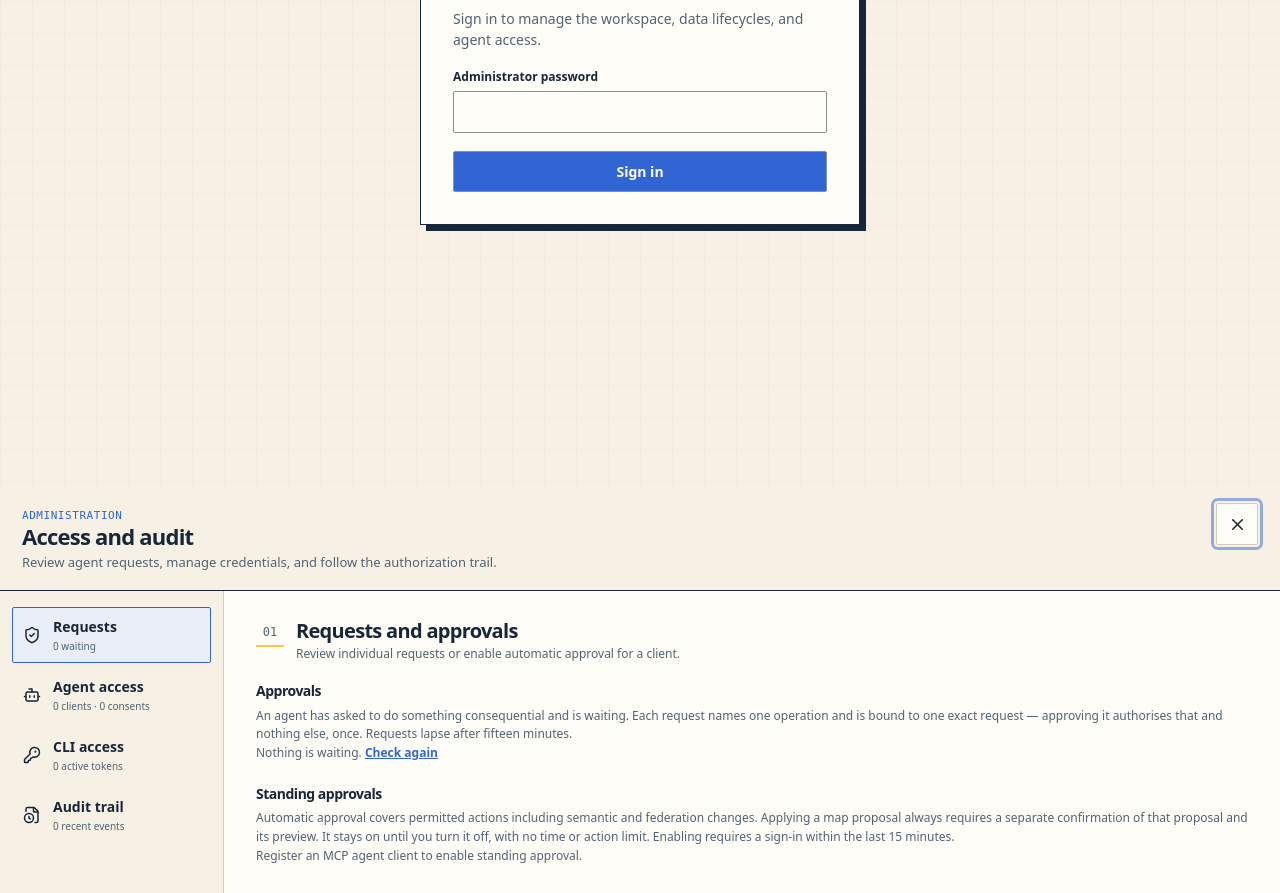
Test: Scoped token administration › offers semantic privilege tiers and provisions the selected scopes
(page scrolled)
Click the button "CLI access 0 active tokens" at (112,755), box [12,727,211,783]
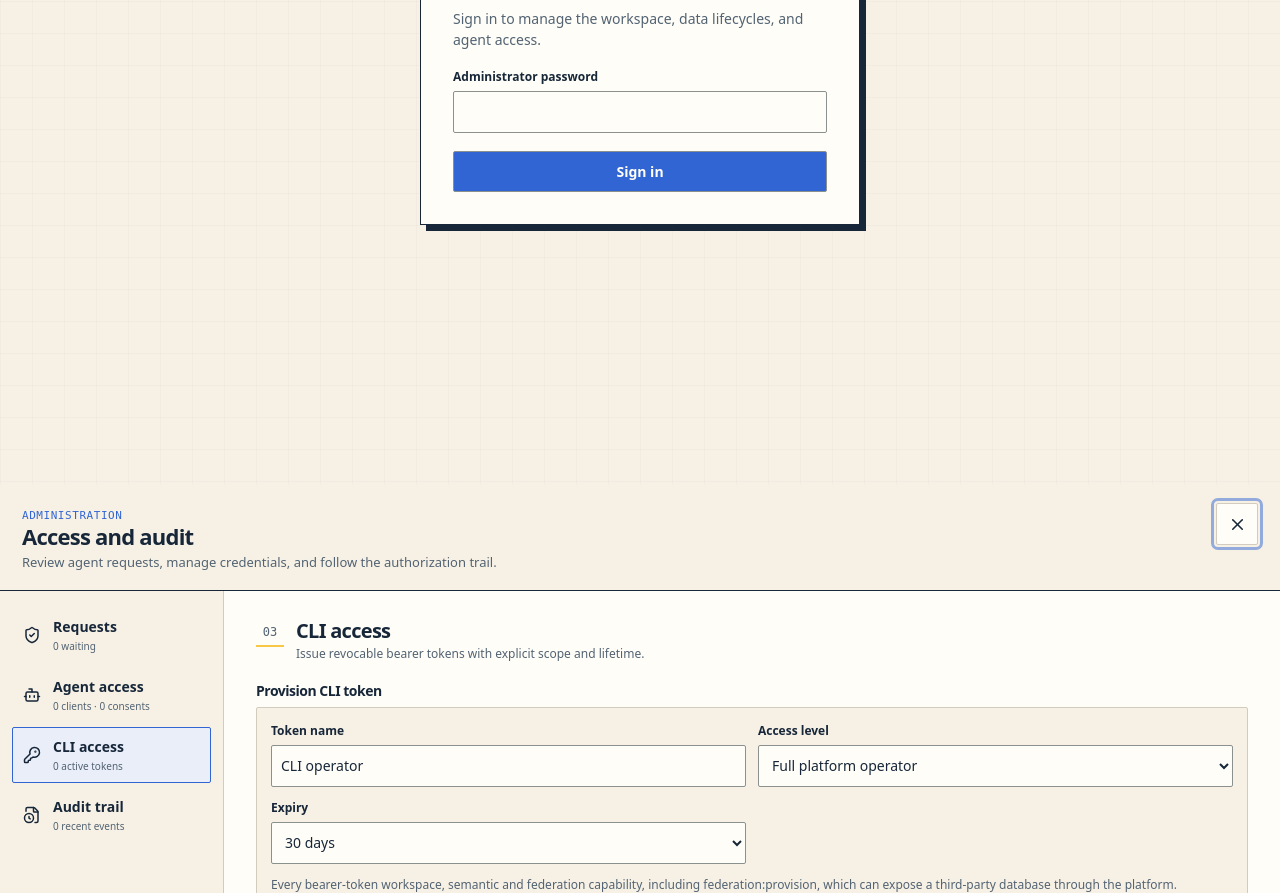
Now the dropdown named "Token access level" shows "Full platform operator"
Select "Semantic administrator" in the dropdown named "Token access level" at (996,766), box [758,744,1233,786]
(page scrolled)
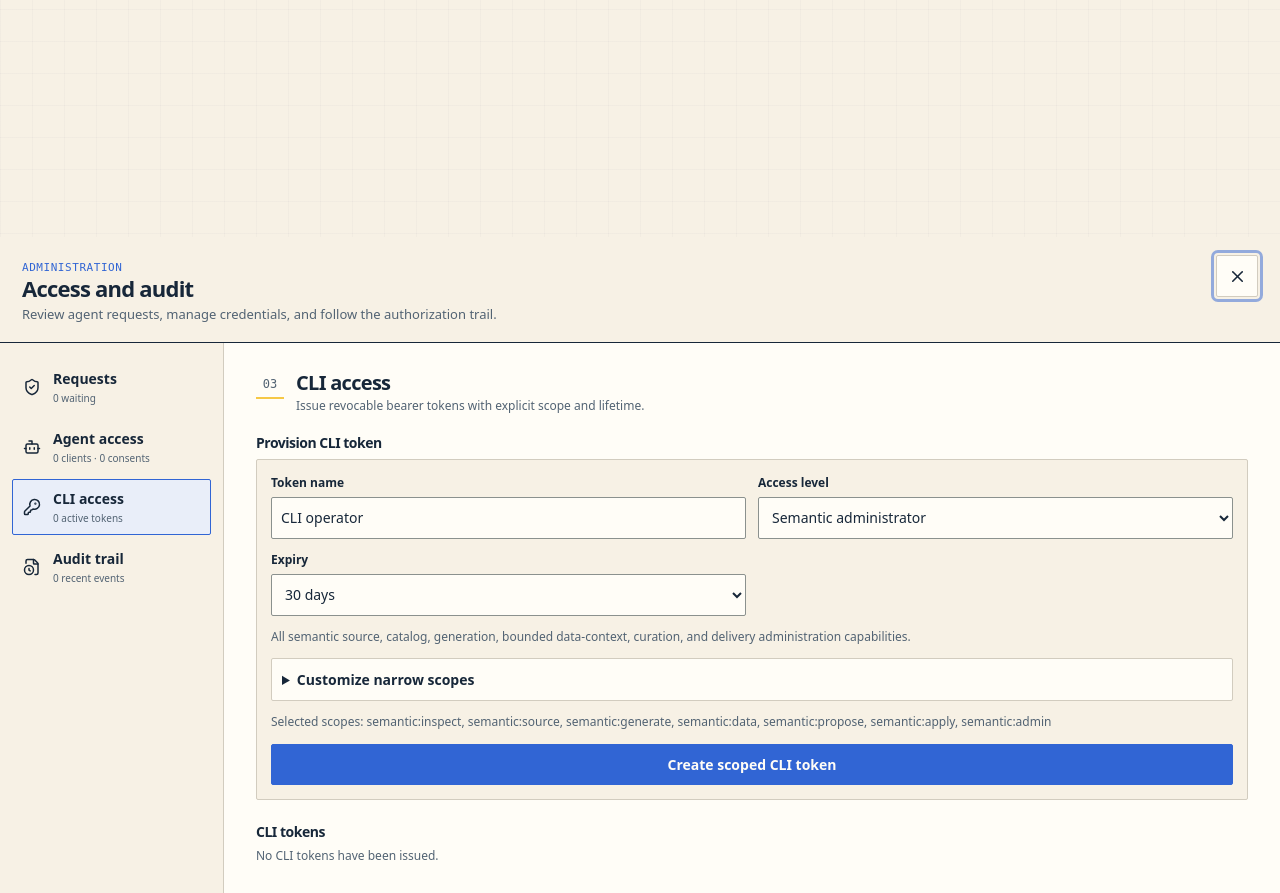
Click the button "Create scoped CLI token" at (752,764), box [271,744,1233,785]
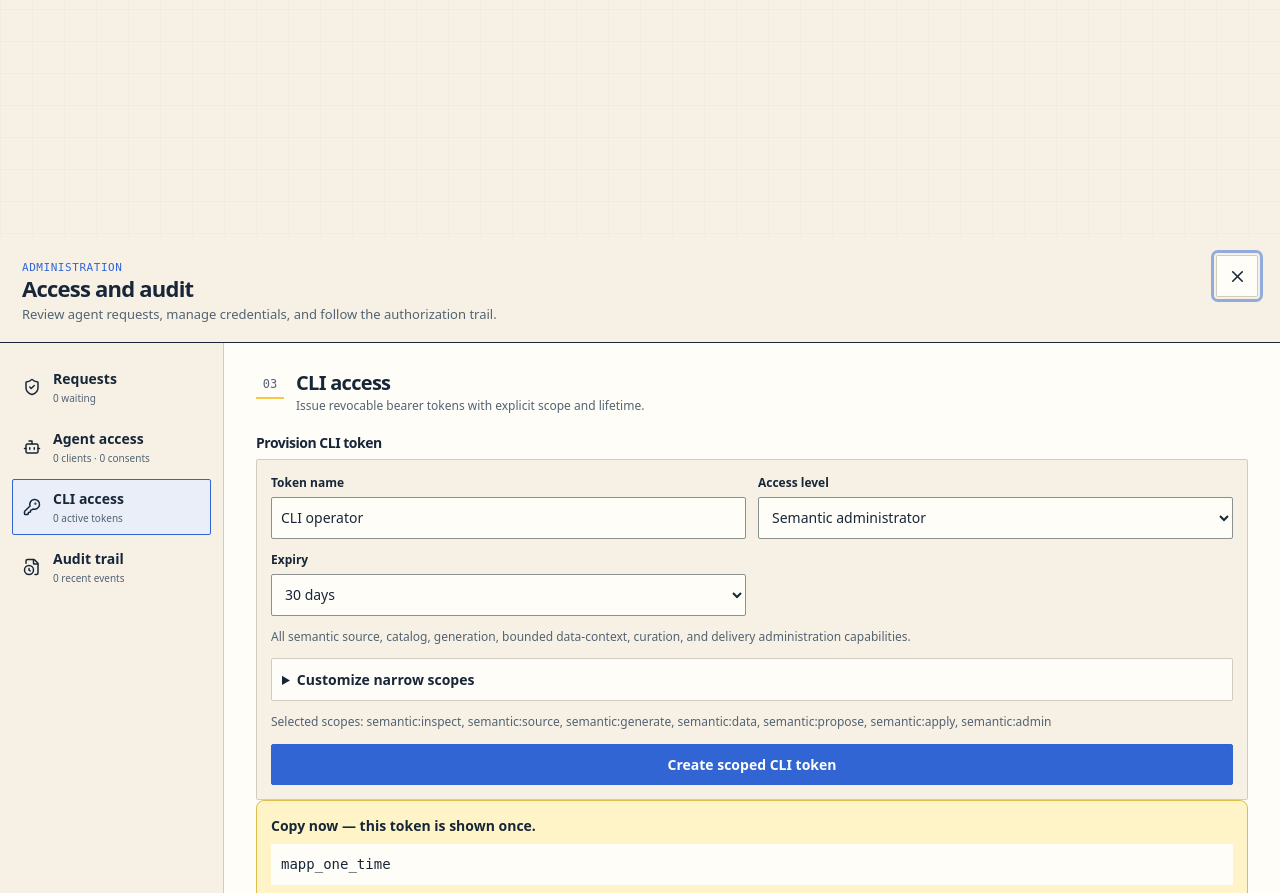
Now the text "mapp_one_time" is shown, box [271,844,1233,885]
